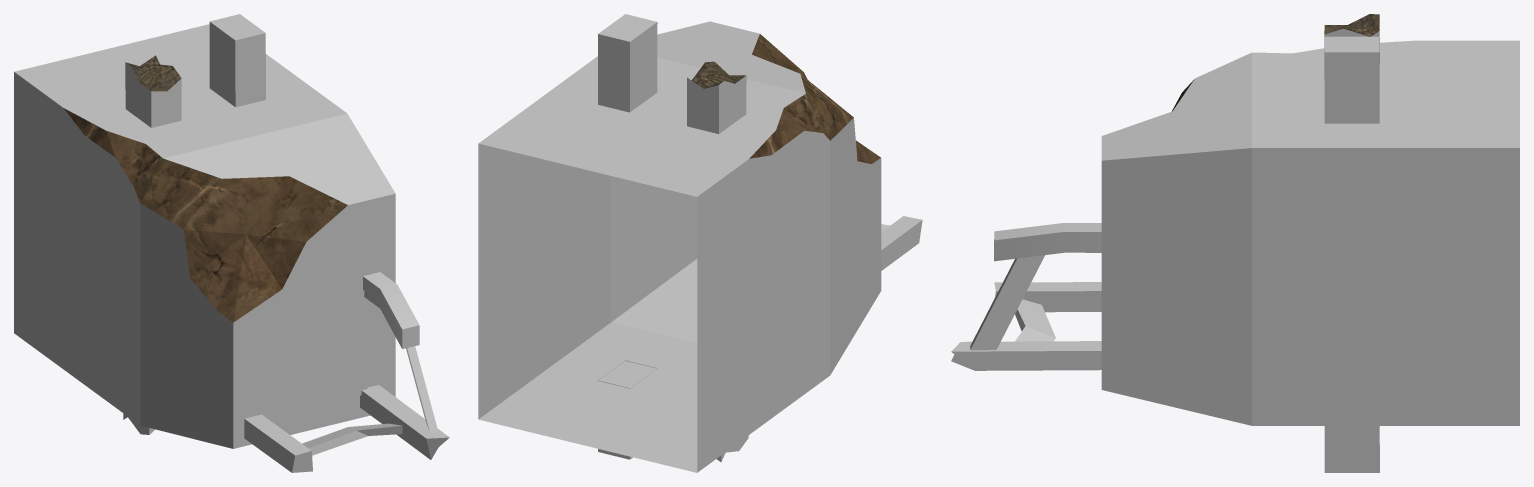
Rendered from A_shidun01_posun01.fbx.
3 renders of one model, left to right at view 1: azimuth 30°, elevation 25°; view 2: azimuth 150°, elevation 25°; view 3: azimuth 270°, elevation 25°, orthographic. The views are drawn at different scales.
Visible parts, largest first — view 1: A_shidun01_posun01; view 2: A_shidun01_posun01; view 3: A_shidun01_posun01.
Part boxes in pixels (x1,y1,x2,y2): A_shidun01_posun01: (14, 14, 449, 472); A_shidun01_posun01: (478, 14, 922, 472); A_shidun01_posun01: (951, 14, 1519, 472).
Size of the model in its own units: 113 by 206 by 252.
